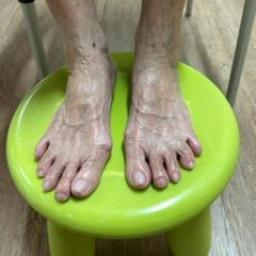Dorsal View -Both Feet-: (22, 14, 216, 217)
